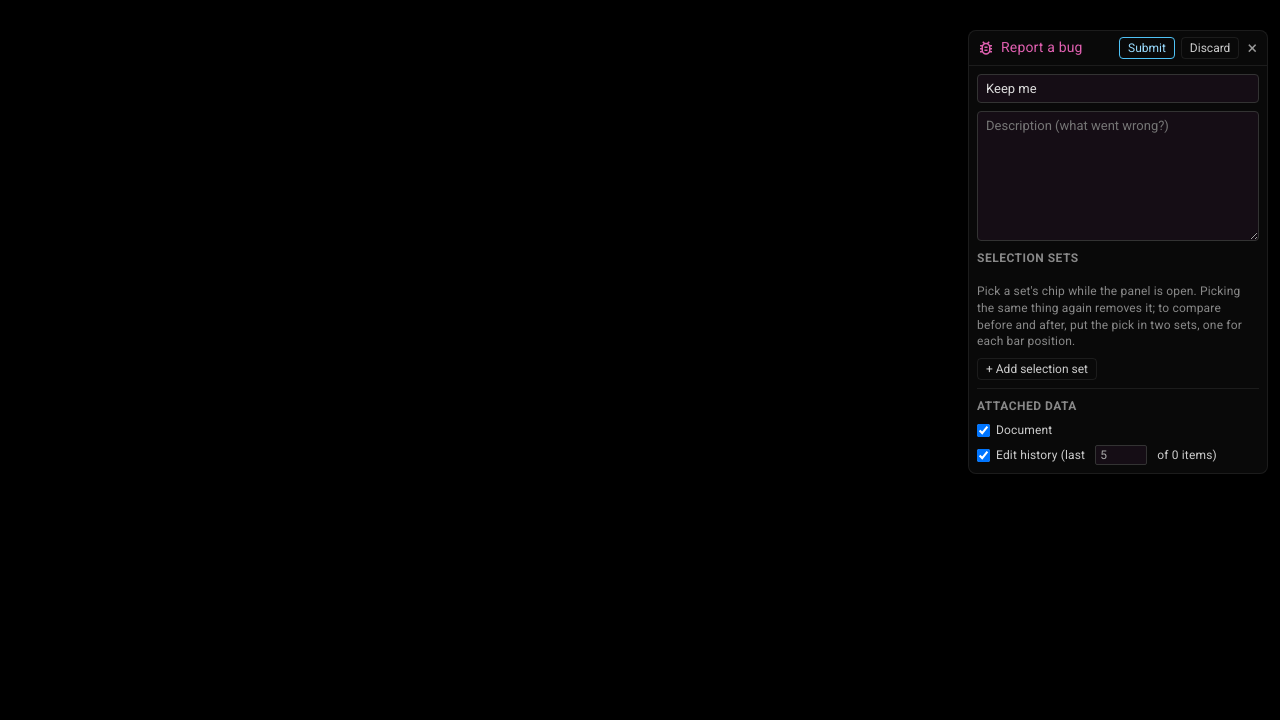
BugReportPanel › portals its dialogs out of the pointer-events-none overlay column
This screenshot has width=1280, height=720.
Click the button "Discard" at x=1210, y=48, box [1181,37,1239,59]
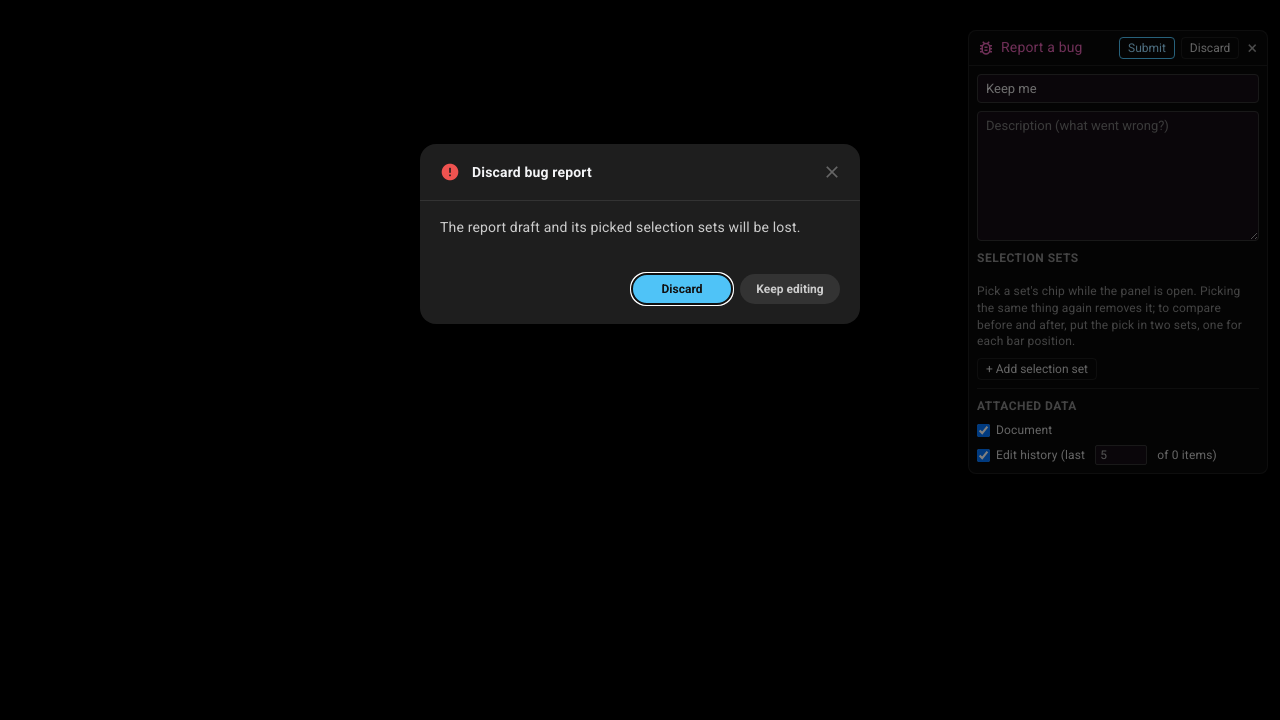
expect the element with class "dialog-component-overlay" is shown: met
